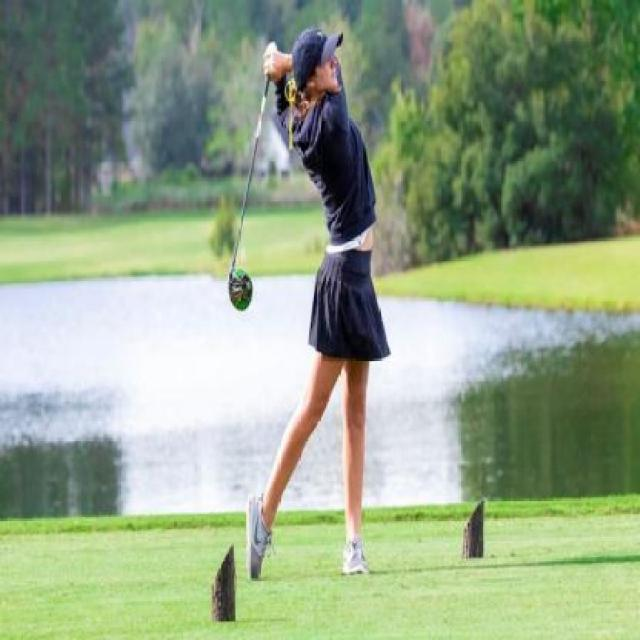club head: (226, 254, 254, 314)
